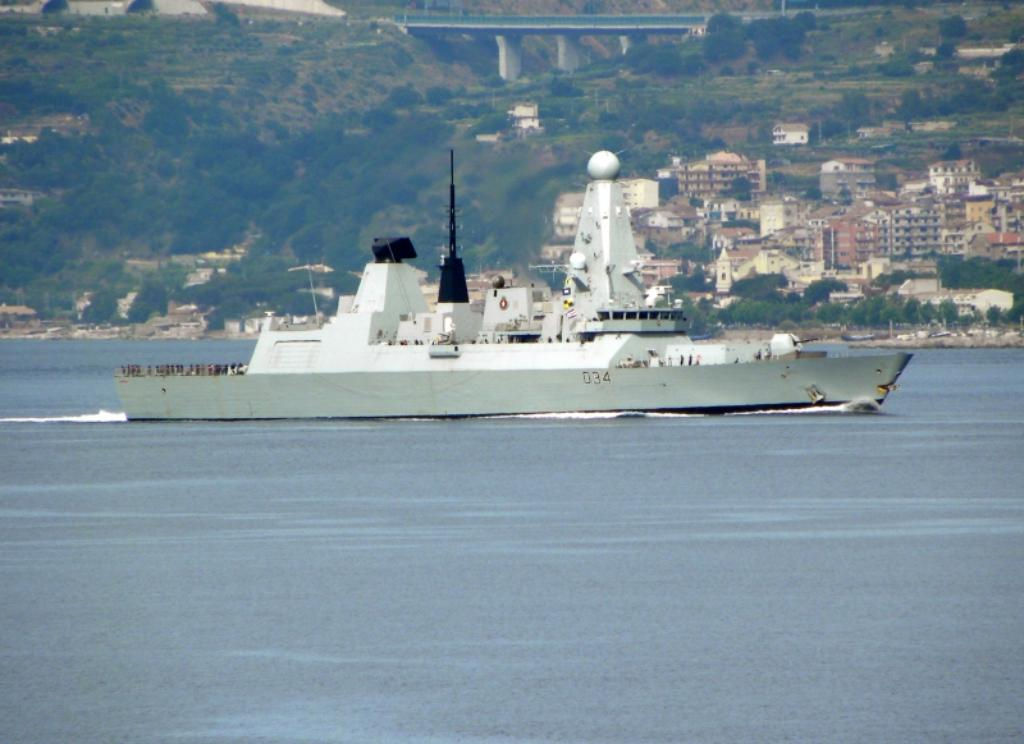Warship: (116, 143, 916, 421)
